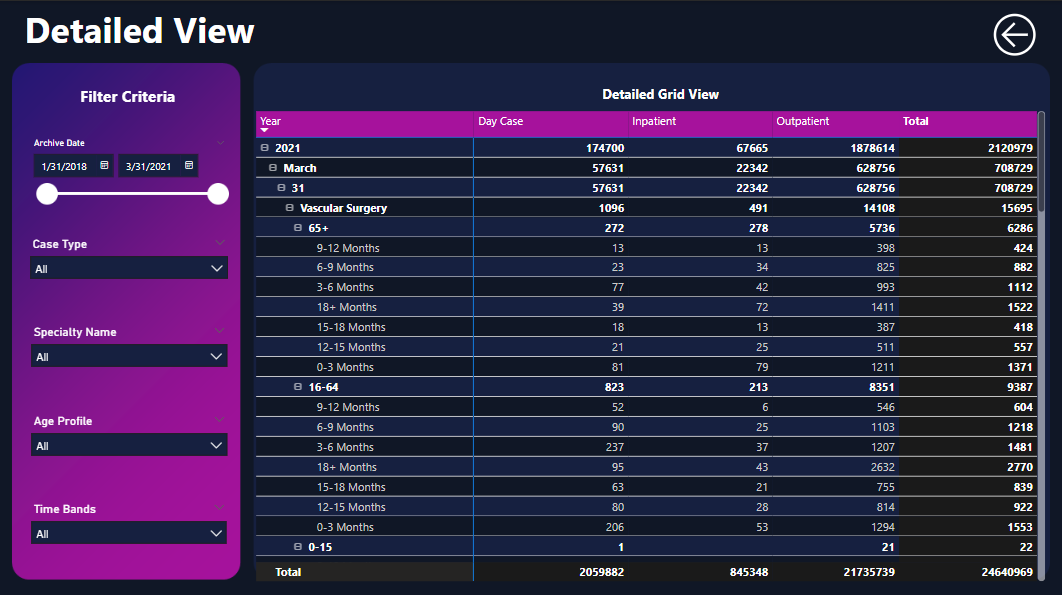

Layout of this report page (visuals, bound fields, positions):
{"tool":"powerbi","page":{"name":"Details","canvas":[1280,720],"ordinal":1},"visuals":[{"type":"slicer","fields":{"Values":["All_Data.Archive_Date"]},"box":[27.8,160,255.6,96.7],"z":0},{"type":"slicer","fields":{"Values":["All_Data.Case_Type"]},"box":[26.2,278.8,257.5,95],"z":1000},{"type":"textbox","box":[0,0,336,80],"z":2000},{"type":"slicer","fields":{"Values":["All_Data.Specialty_Name"]},"box":[27.8,385.6,255.6,95.6],"z":3000},{"type":"slicer","fields":{"Values":["All_Data.Age_Profile"]},"box":[27.8,492.2,255.6,95.6],"z":4000},{"type":"slicer","fields":{"Values":["All_Data.Time_Bands"]},"box":[27.7,598.4,255.3,95.1],"z":5000},{"type":"pivotTable","fields":{"Rows":["All_Data.Archive_Date.Variation.Date Hierarchy.Year","All_Data.Archive_Date.Variation.Date Hierarchy.Month","All_Data.Archive_Date.Variation.Date Hierarchy.Day","All_Data.Specialty_Name","All_Data.Age_Profile","All_Data.Time_Bands"],"Columns":["All_Data.Case_Type"],"Values":["Sum(All_Data.Total)"]},"box":[304,128,960,576],"z":6000},{"type":"actionButton","box":[1190,8.6,80,64.3],"z":7000},{"type":"textbox","box":[91.2,96.2,161.2,43.8],"z":8000},{"type":"textbox","box":[720,96,176,32],"z":9000}]}

Visuals, with their boxes in screenshot pixels (x1, y1, x2, y2), scaled from the page's 1280x720 canvas onto the 1062x595 screenshot:
slicer - All_Data.Archive_Date: x1=23, y1=132, x2=235, y2=212
slicer - All_Data.Case_Type: x1=22, y1=230, x2=235, y2=309
textbox: x1=0, y1=0, x2=279, y2=66
slicer - All_Data.Specialty_Name: x1=23, y1=319, x2=235, y2=398
slicer - All_Data.Age_Profile: x1=23, y1=407, x2=235, y2=486
slicer - All_Data.Time_Bands: x1=23, y1=495, x2=235, y2=573
pivotTable - All_Data.Archive_Date.Variation.Date Hierarchy.Year x All_Data.Archive_Date.Variation.Date Hierarchy.Month: x1=252, y1=106, x2=1049, y2=582
actionButton: x1=987, y1=7, x2=1054, y2=60
textbox: x1=76, y1=79, x2=209, y2=116
textbox: x1=597, y1=79, x2=743, y2=106
